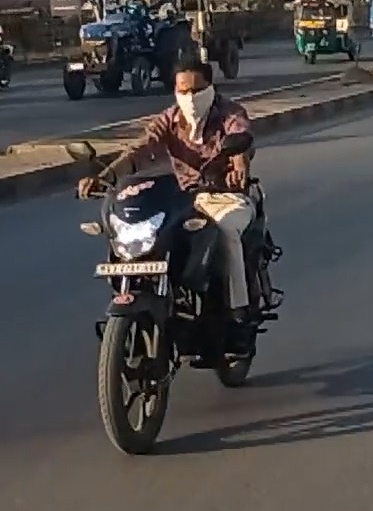BikeWithRider: (62, 54, 287, 458)
NoHelmet: (167, 59, 219, 122)
